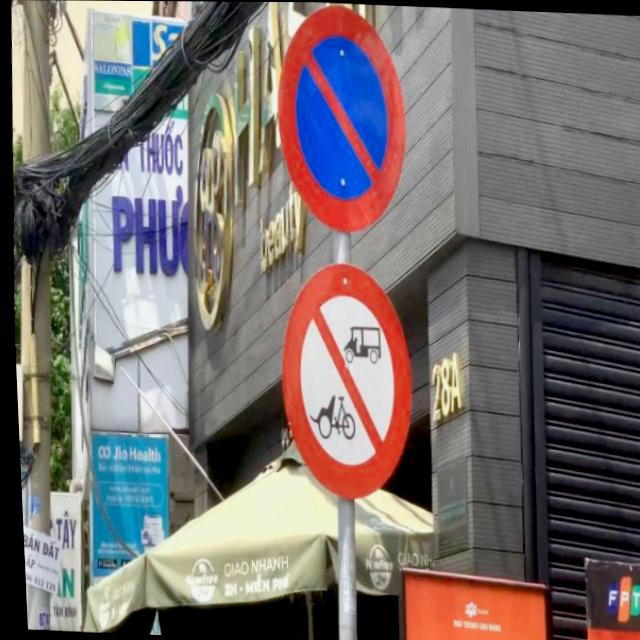Cam do xe: (267, 2, 413, 237)
